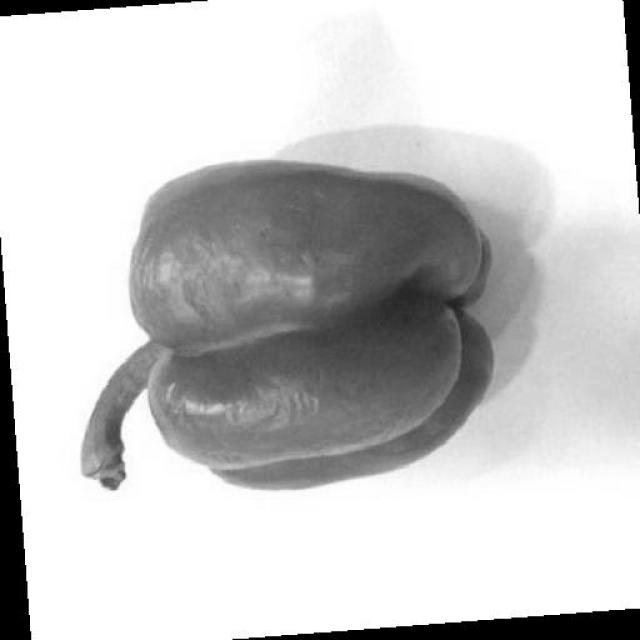Fresh_Capsicum: (105, 110, 477, 516)
